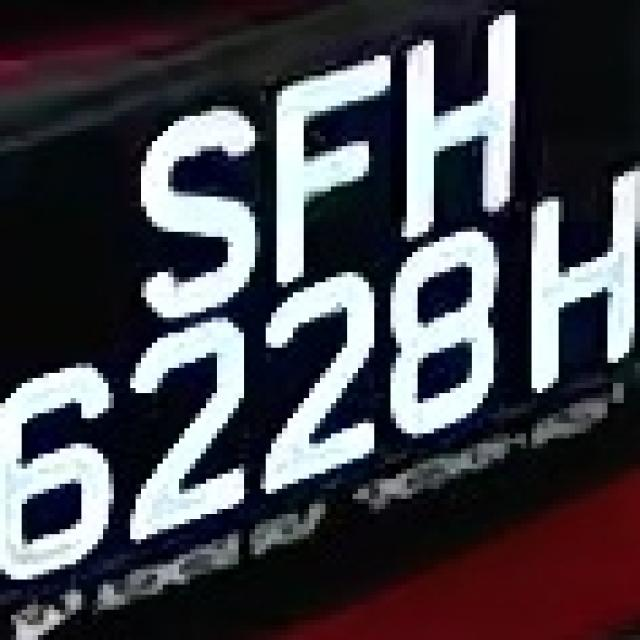2: (238, 252, 379, 509), (130, 302, 266, 540)
6: (5, 332, 125, 594)
8: (374, 202, 504, 444)
F: (260, 45, 385, 282)
H: (385, 10, 526, 242), (515, 161, 640, 413)
S: (120, 96, 260, 312)
